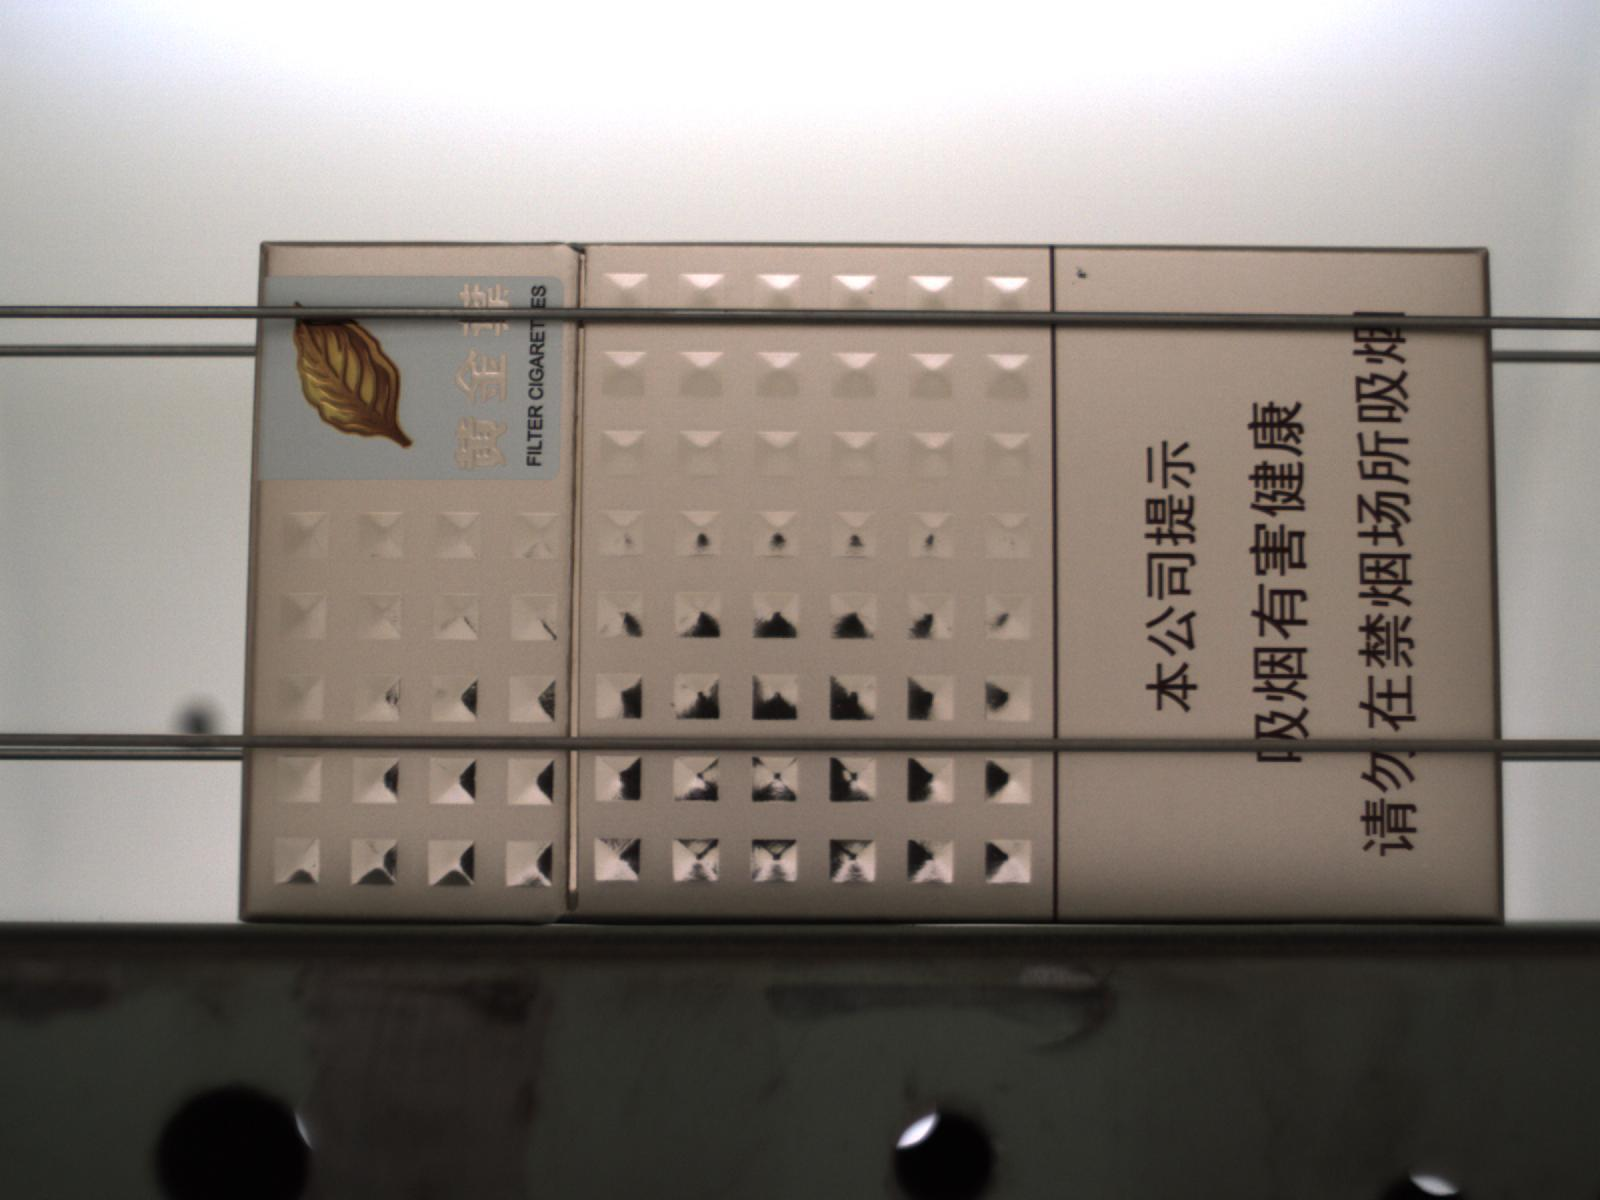dirtySpot: (1076, 267, 1090, 281)
